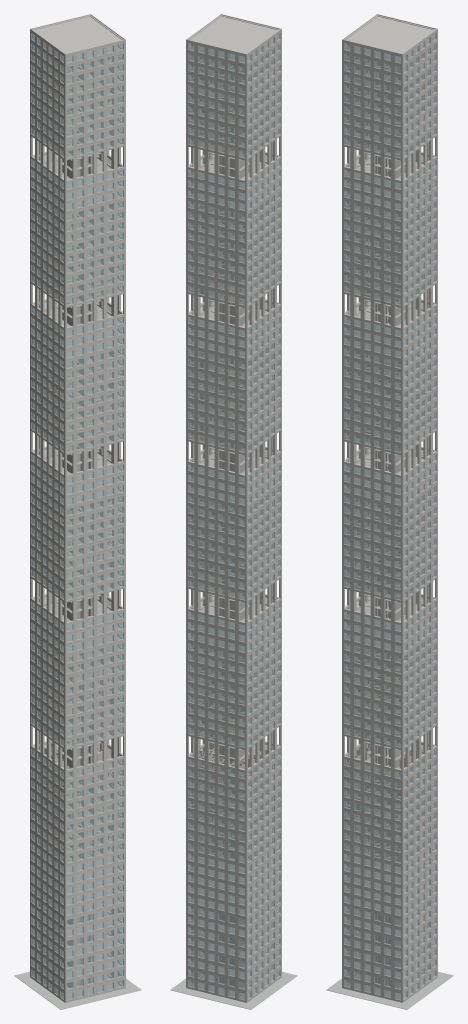
File: 432_Park_Avenue_Lightweight.glb
The picture shows the model from 3 angles, left to right: view 1: azimuth 30°, elevation 25°; view 2: azimuth 150°, elevation 25°; view 3: azimuth 330°, elevation 25°; orthographic projection.
Visible parts, largest first — view 1: Flat_Roof_Parapet, Facade_Module_036, Facade_Module_078, Facade_Module_064, Facade_Module_050, Facade_Module_090, Facade_Module_022, Local_Ground_Plinth, Facade_Module_007, Facade_Module_001, Facade_Module_005, Facade_Module_003 (+166 smaller); view 2: Flat_Roof_Parapet, Facade_Module_036, Facade_Module_078, Facade_Module_050, Facade_Module_064, Facade_Module_090, Facade_Module_022, Local_Ground_Plinth, Facade_Module_007, Facade_Module_001, Facade_Module_005, Facade_Module_003 (+166 smaller); view 3: Flat_Roof_Parapet, Facade_Module_036, Facade_Module_078, Facade_Module_064, Facade_Module_050, Facade_Module_090, Facade_Module_022, Local_Ground_Plinth, Facade_Module_007, Facade_Module_001, Facade_Module_005, Facade_Module_003 (+166 smaller).
Part boxes in pixels (bbox=[...]): Flat_Roof_Parapet: bbox=[30, 14, 125, 54]; Facade_Module_036: bbox=[30, 593, 125, 633]; Facade_Module_078: bbox=[30, 151, 125, 191]; Facade_Module_064: bbox=[30, 299, 125, 339]; Facade_Module_050: bbox=[30, 446, 125, 486]; Facade_Module_090: bbox=[30, 15, 125, 65]; Facade_Module_022: bbox=[30, 741, 125, 781]; Local_Ground_Plinth: bbox=[14, 970, 141, 1009]; Facade_Module_007: bbox=[30, 902, 125, 939]; Facade_Module_001: bbox=[30, 965, 125, 1002]; Facade_Module_005: bbox=[30, 923, 125, 960]; Facade_Module_003: bbox=[30, 944, 125, 981]; Flat_Roof_Parapet: bbox=[186, 14, 281, 55]; Facade_Module_036: bbox=[186, 593, 281, 633]; Facade_Module_078: bbox=[186, 151, 281, 191]; Facade_Module_050: bbox=[186, 446, 281, 486]; Facade_Module_064: bbox=[186, 299, 281, 339]; Facade_Module_090: bbox=[186, 15, 281, 65]; Facade_Module_022: bbox=[186, 741, 281, 781]; Local_Ground_Plinth: bbox=[170, 970, 297, 1009]; Facade_Module_007: bbox=[186, 902, 281, 939]; Facade_Module_001: bbox=[186, 965, 281, 1002]; Facade_Module_005: bbox=[186, 923, 281, 960]; Facade_Module_003: bbox=[186, 944, 281, 981]; Flat_Roof_Parapet: bbox=[342, 14, 437, 55]; Facade_Module_036: bbox=[342, 593, 437, 633]; Facade_Module_078: bbox=[342, 151, 437, 191]; Facade_Module_064: bbox=[342, 299, 437, 339]; Facade_Module_050: bbox=[342, 446, 437, 486]; Facade_Module_090: bbox=[342, 15, 437, 65]; Facade_Module_022: bbox=[342, 741, 437, 781]; Local_Ground_Plinth: bbox=[326, 970, 453, 1009]; Facade_Module_007: bbox=[342, 902, 437, 939]; Facade_Module_001: bbox=[342, 965, 437, 1002]; Facade_Module_005: bbox=[342, 923, 437, 960]; Facade_Module_003: bbox=[342, 944, 437, 981].
Bounding box in the file's own units: 38 × 426 × 38.
